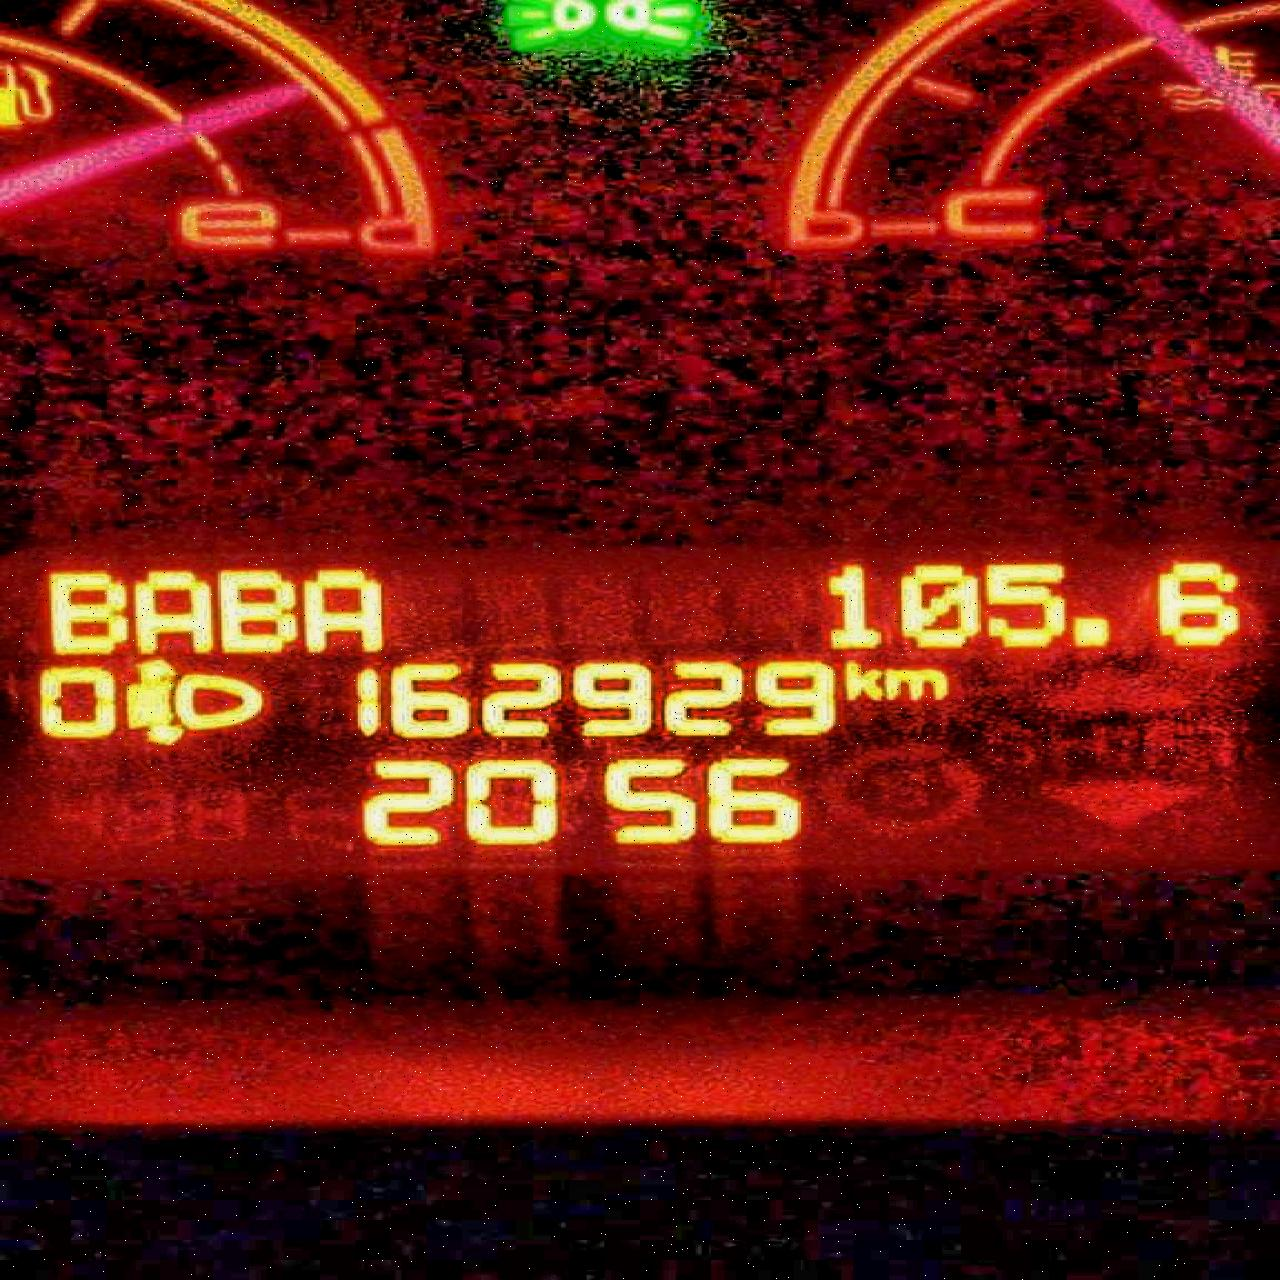-: (1067, 614, 1122, 651)
0: (460, 757, 558, 845), (898, 561, 982, 649), (33, 664, 118, 740)
1: (822, 559, 884, 651), (351, 664, 382, 740)
2: (356, 756, 454, 846), (660, 658, 749, 738), (478, 658, 562, 740)
5: (602, 755, 698, 843), (980, 559, 1067, 650)
6: (704, 755, 802, 844), (1153, 560, 1238, 646), (387, 660, 473, 740)
9: (564, 656, 656, 736), (751, 658, 836, 738)
X: (42, 566, 129, 656), (302, 566, 387, 654), (131, 566, 213, 654), (214, 566, 294, 652), (882, 665, 949, 701), (840, 656, 880, 700)
odometer: (0, 545, 1278, 879)
